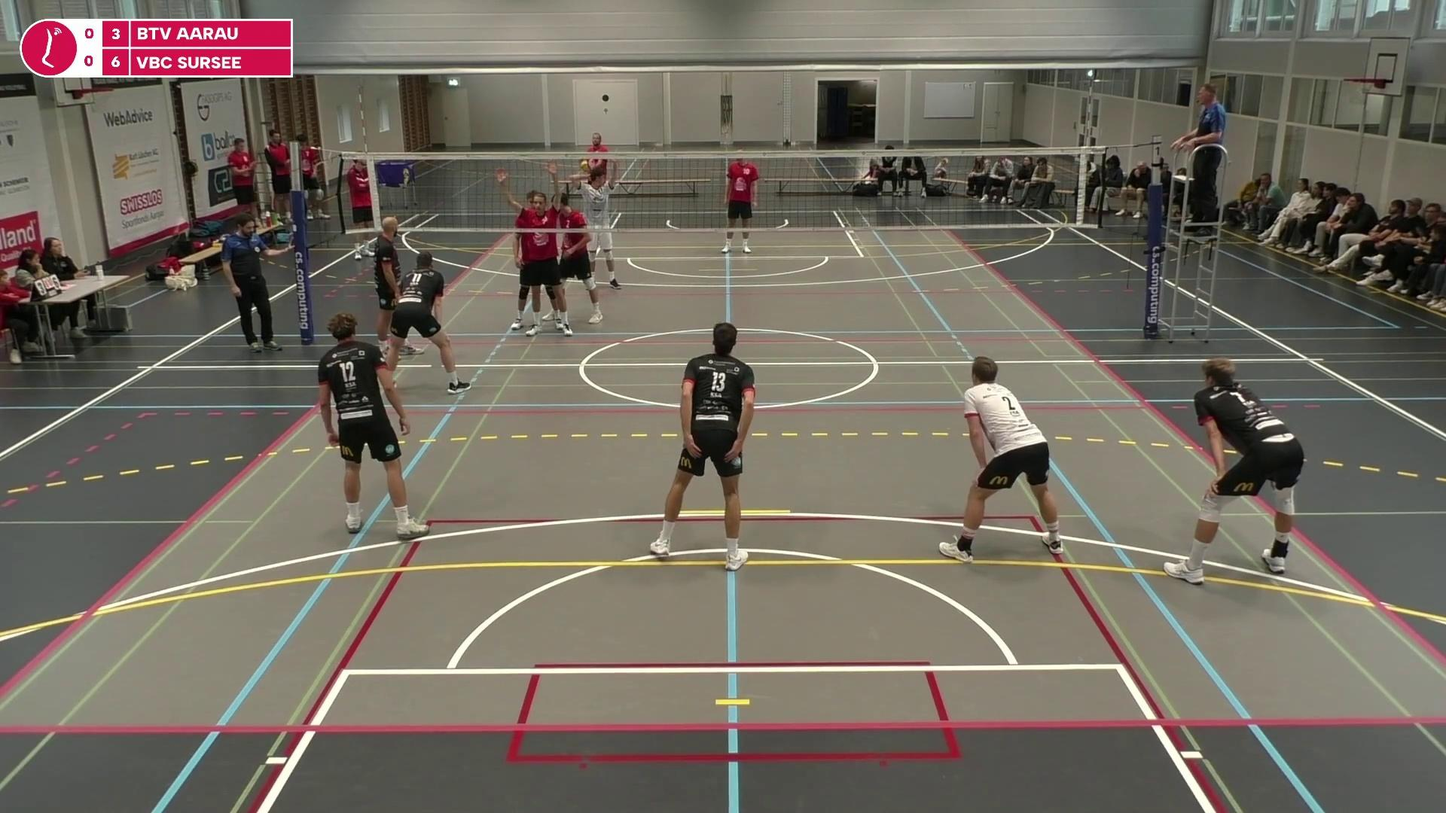Player: (1170, 361, 1304, 584), (648, 322, 755, 571), (938, 357, 1063, 562), (316, 313, 428, 537), (386, 251, 472, 394), (496, 171, 566, 335), (552, 191, 602, 329), (370, 217, 415, 361), (724, 151, 760, 253), (574, 131, 613, 224)
ball: (576, 157, 596, 175)
